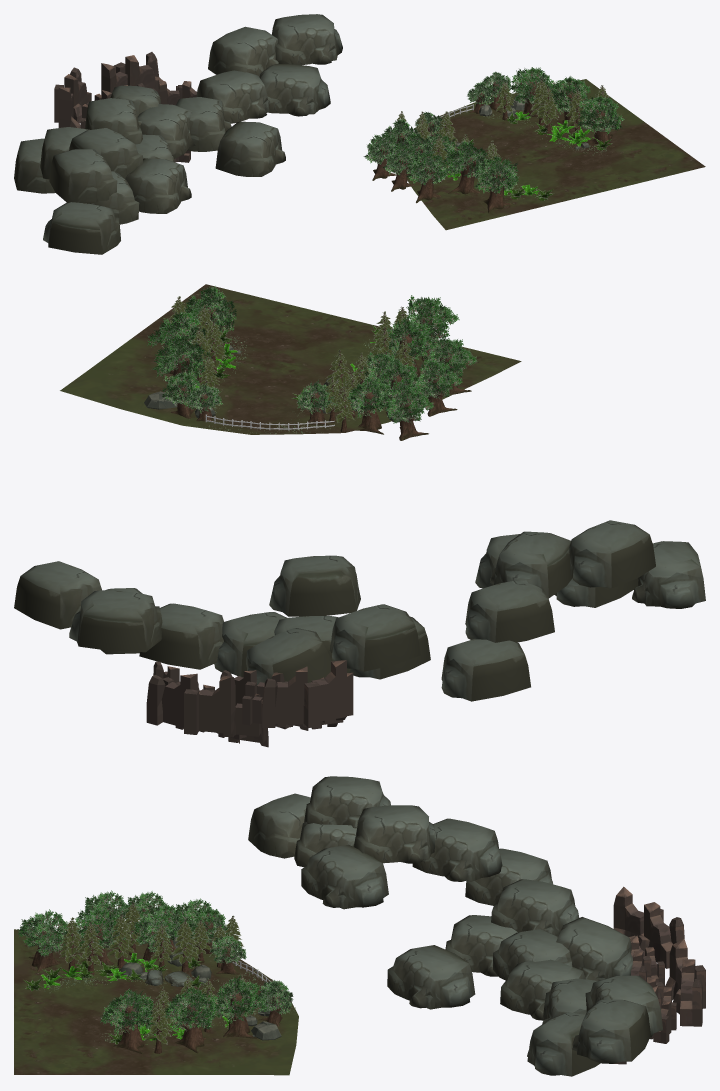
File: hpEnv.fbx
3 renders of one model, top to bottom at view 1: azimuth 30°, elevation 25°; view 2: azimuth 150°, elevation 25°; view 3: azimuth 270°, elevation 25°, orthographic. The views are drawn at different scales.
Visible parts, largest first — view 1: Plane, Cube.044, Cube.016, Cube.020, Cube.037, Cube.013, Cube.045, Cube.019, Cube.015, Cube.039, Cube.042, Cube.011 (+24 smaller); view 2: Plane, Cube.010, Cube.039, Cube.019, Cube.016, Cube.021, Cube.037, Cube.038, Cube.041, Cube.020, Cube.015, Cube.042 (+20 smaller); view 3: Plane, Cube.016, Cube.045, Cube.042, Cube.020, Cube.041, Cube.010, Cube.021, Cube.039, Cube.022, Cube.037, Cube.013 (+28 smaller).
Boxes of the visible parts, x1=… form: Plane: x1=407, y1=79, x2=705, y2=230; Cube.044: x1=43, y1=202, x2=120, y2=254; Cube.016: x1=215, y1=121, x2=285, y2=176; Cube.020: x1=271, y1=14, x2=342, y2=65; Cube.037: x1=49, y1=149, x2=117, y2=203; Cube.013: x1=259, y1=64, x2=330, y2=116; Cube.045: x1=125, y1=158, x2=191, y2=213; Cube.019: x1=208, y1=26, x2=278, y2=76; Cube.015: x1=196, y1=70, x2=269, y2=123; Cube.039: x1=101, y1=52, x2=196, y2=162; Cube.042: x1=69, y1=128, x2=142, y2=178; Cube.011: x1=176, y1=97, x2=231, y2=151; Plane: x1=60, y1=284, x2=521, y2=434; Cube.010: x1=220, y1=660, x2=353, y2=730; Cube.039: x1=146, y1=661, x2=268, y2=747; Cube.019: x1=69, y1=590, x2=162, y2=652; Cube.016: x1=269, y1=555, x2=360, y2=616; Cube.021: x1=329, y1=604, x2=420, y2=671; Cube.037: x1=569, y1=520, x2=655, y2=588; Cube.038: x1=441, y1=639, x2=530, y2=701; Cube.041: x1=465, y1=580, x2=554, y2=642; Cube.020: x1=14, y1=561, x2=101, y2=629; Cube.015: x1=139, y1=603, x2=223, y2=669; Cube.042: x1=490, y1=531, x2=572, y2=598; Plane: x1=14, y1=929, x2=298, y2=1075; Cube.016: x1=387, y1=945, x2=475, y2=1009; Cube.045: x1=301, y1=844, x2=388, y2=909; Cube.042: x1=353, y1=805, x2=435, y2=863; Cube.020: x1=572, y1=999, x2=650, y2=1063; Cube.041: x1=412, y1=818, x2=502, y2=881; Cube.010: x1=613, y1=886, x2=684, y2=986; Cube.021: x1=491, y1=879, x2=579, y2=936; Cube.039: x1=613, y1=939, x2=705, y2=1064; Cube.022: x1=556, y1=917, x2=632, y2=980; Cube.037: x1=304, y1=776, x2=390, y2=828; Cube.013: x1=527, y1=1012, x2=600, y2=1076.
Size of the model in its own units: 4677 by 1388 by 4566.
